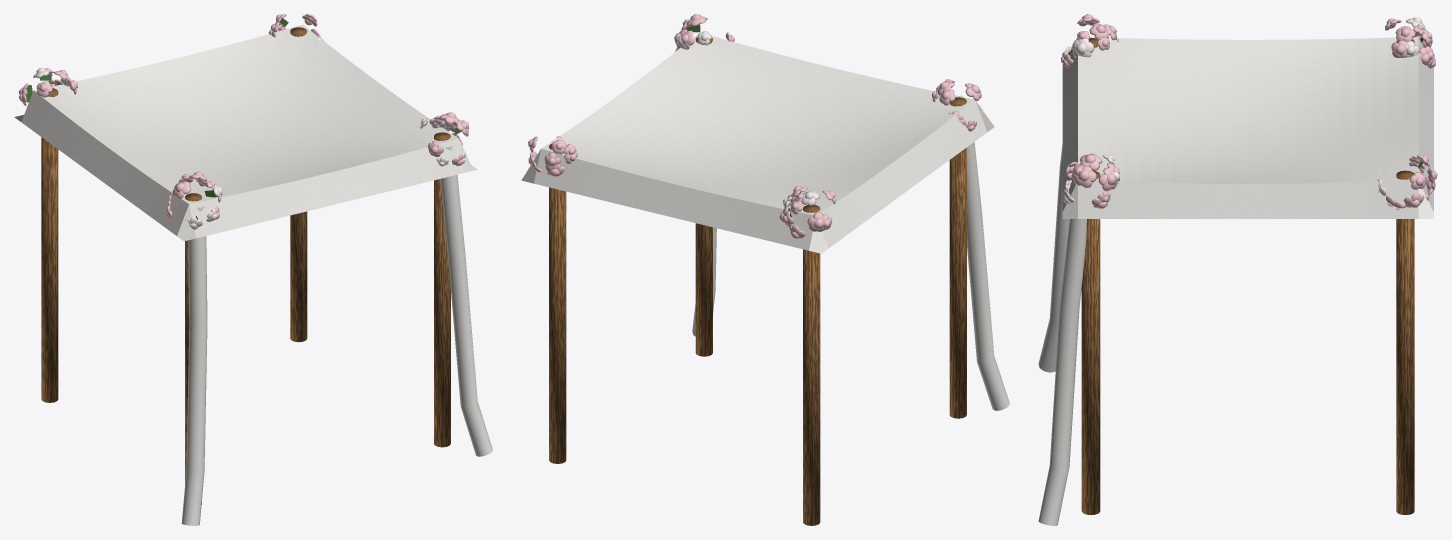
Rendered from chuppah.glb.
3 views of the same model, side by side, from view 1: azimuth 30°, elevation 25°; view 2: azimuth 150°, elevation 25°; view 3: azimuth 270°, elevation 25° (orthographic). The views are drawn at different scales.
Visible parts, largest first — view 1: chuppah; view 2: chuppah; view 3: chuppah.
Part boxes in pixels (<box>): chuppah: <box>14,14,492,525</box>; chuppah: <box>521,14,1009,525</box>; chuppah: <box>1038,14,1437,525</box>.
Bounding box in the file's own units: 2.73 × 2.8 × 2.79.
Materials: 5 (5 with a texture image).
